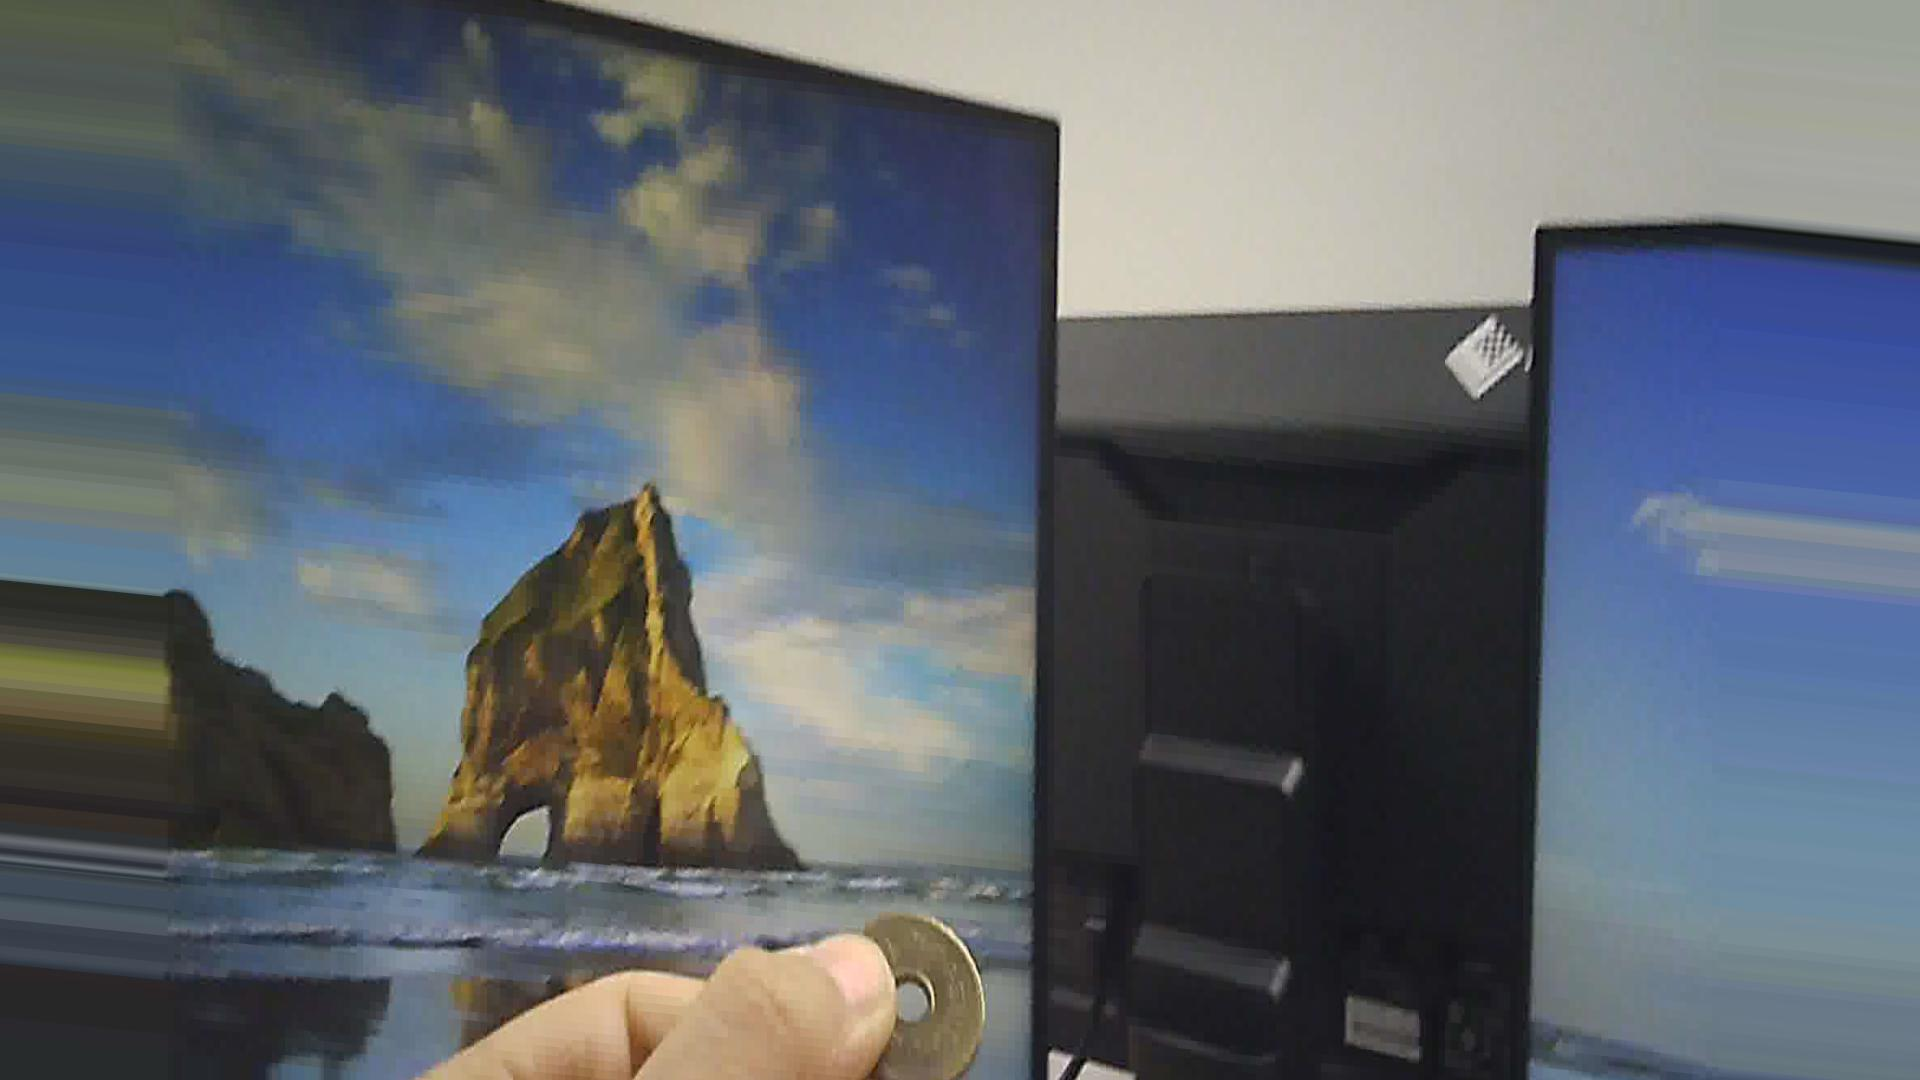5 Yen: (831, 902, 1013, 1076)
